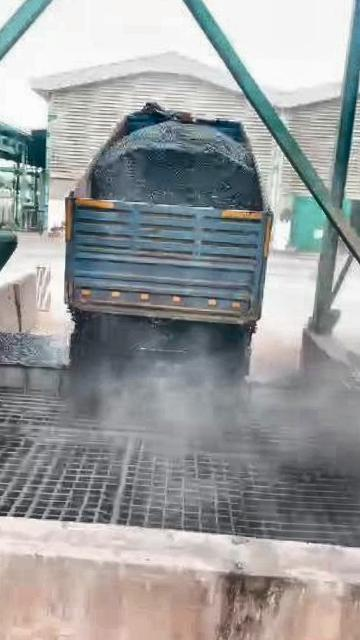gravel: (91, 116, 266, 208), (70, 315, 249, 384), (0, 331, 67, 366)
